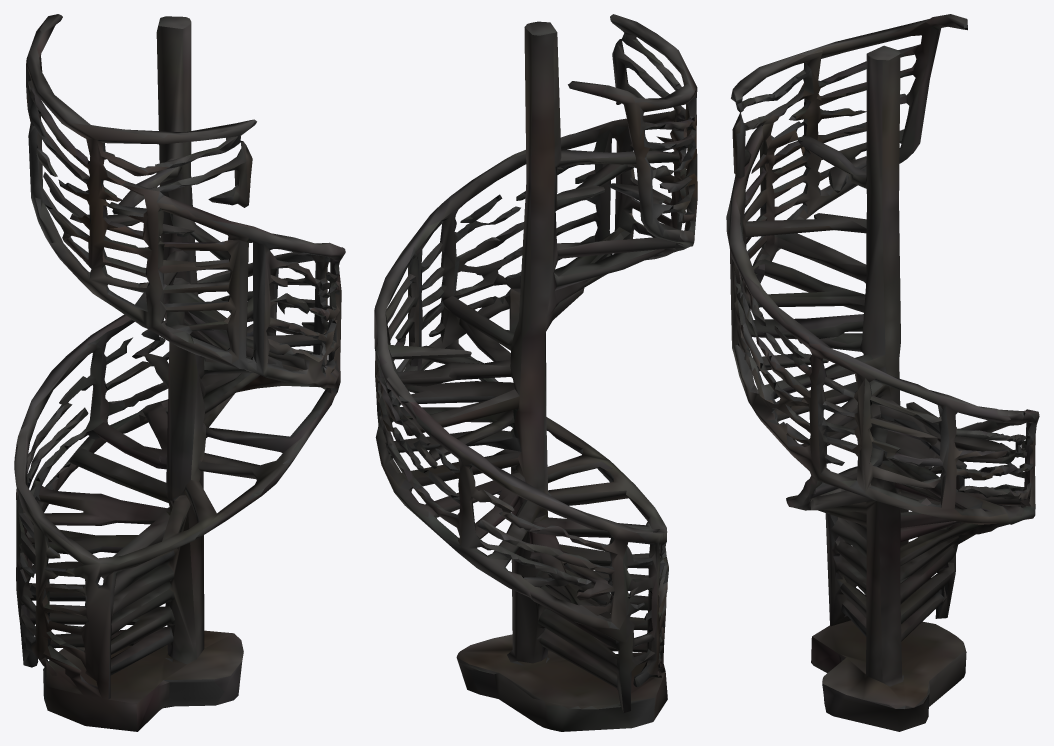
Rendered from plain-iron-spiral-staircase-v001.glb.
3 renders of one model, left to right at view 1: azimuth 30°, elevation 25°; view 2: azimuth 150°, elevation 25°; view 3: azimuth 270°, elevation 25°, orthographic. The views are drawn at different scales.
Parts seen in each view (by area): view 1: plain-iron-spiral-staircase; view 2: plain-iron-spiral-staircase; view 3: plain-iron-spiral-staircase.
Boxes of the visible parts, box(x1,y1,x2,y2) form: plain-iron-spiral-staircase: box(14, 14, 345, 731); plain-iron-spiral-staircase: box(374, 14, 697, 731); plain-iron-spiral-staircase: box(726, 14, 1039, 731).
Size of the model in its own units: 1.05 by 2.42 by 1.06.
Materials: 1 (1 with a texture image).
